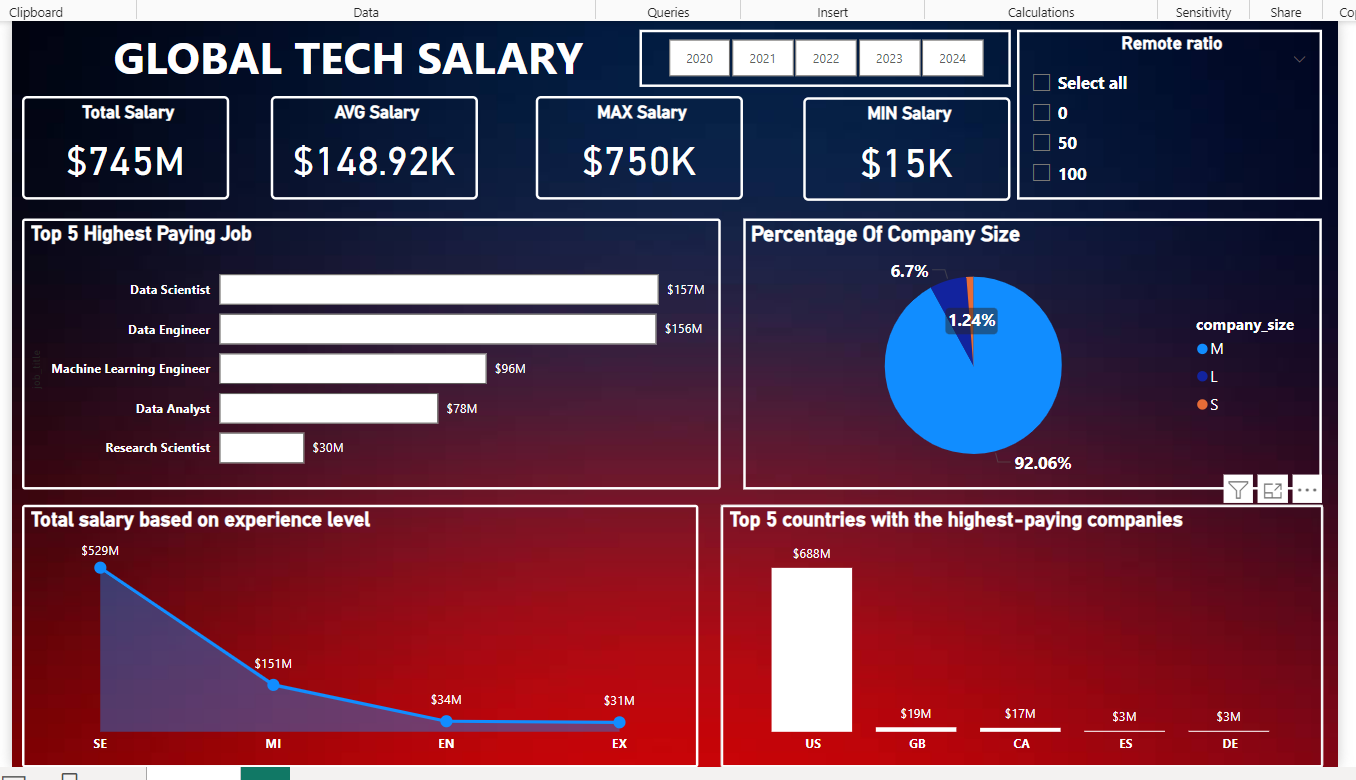

The dashboard page shown, as its layout file describes it:
{"tool":"powerbi","page":{"name":"Page 1","canvas":[1280,720],"ordinal":0},"visuals":[{"type":"textbox","box":[0,0,649.1,71.4],"z":0},{"type":"card","title":"Total Salary","fields":{"Values":["Sum(global_tech_salary.salary_in_usd)"]},"box":[9.7,72.4,200.3,100.1],"z":3000},{"type":"clusteredBarChart","title":"Top 5 Highest Paying Job","fields":{"Y":["Sum(global_tech_salary.salary_in_usd)"],"Category":["global_tech_salary.job_title"]},"box":[9.7,190.6,674.4,261.8],"z":5000},{"type":"pieChart","title":"Percentage Of Company Size","fields":{"Category":["global_tech_salary.company_size"],"Y":["CountNonNull(global_tech_salary.company_size)"]},"box":[705.8,190.6,558.6,261.8],"z":5001},{"type":"slicer","fields":{"Values":["global_tech_salary.work_year"]},"box":[605.6,8.4,358.3,55.5],"z":5003},{"type":"areaChart","title":"Total salary based on experience level","fields":{"Category":["global_tech_salary.experience_level"],"Y":["Sum(global_tech_salary.salary_in_usd)"]},"box":[9.7,466.9,652.7,253.4],"z":5004},{"type":"card","title":"AVG Salary","fields":{"Values":["Avg(global_tech_salary.salary_in_usd)"]},"box":[249.7,72.4,200.3,100.1],"z":5005},{"type":"card","title":"MAX Salary","fields":{"Values":["Max(global_tech_salary.salary_in_usd)"]},"box":[505.5,72.4,200.3,100.1],"z":5006},{"type":"card","title":"MIN Salary","fields":{"Values":["Min(global_tech_salary.salary_in_usd)"]},"box":[763.7,73.6,200.3,100.1],"z":5007},{"type":"slicer","title":"Remote ratio","fields":{"Values":["global_tech_salary.remote_ratio"]},"box":[970,8.4,294.4,164.1],"z":5008},{"type":"clusteredColumnChart","title":"Top 5 countries with the highest-paying companies","fields":{"Category":["global_tech_salary.company_location"],"Y":["Sum(global_tech_salary.salary_in_usd)"]},"box":[684.1,466.9,581.5,253.4],"z":5009}]}

Visuals, with their boxes in screenshot pixels (x1, y1, x2, y2):
textbox: box=[4, 14, 682, 89]
"Total Salary" card: box=[14, 90, 223, 194]
"Top 5 Highest Paying Job" clusteredBarChart: box=[14, 213, 718, 487]
"Percentage Of Company Size" pieChart: box=[741, 213, 1324, 487]
slicer - global_tech_salary.work_year: box=[636, 23, 1011, 81]
"Total salary based on experience level" areaChart: box=[14, 502, 696, 767]
"AVG Salary" card: box=[264, 90, 474, 194]
"MAX Salary" card: box=[532, 90, 741, 194]
"MIN Salary" card: box=[801, 91, 1011, 196]
"Remote ratio" slicer: box=[1017, 23, 1324, 194]
"Top 5 countries with the highest-paying companies" clusteredColumnChart: box=[718, 502, 1326, 767]
